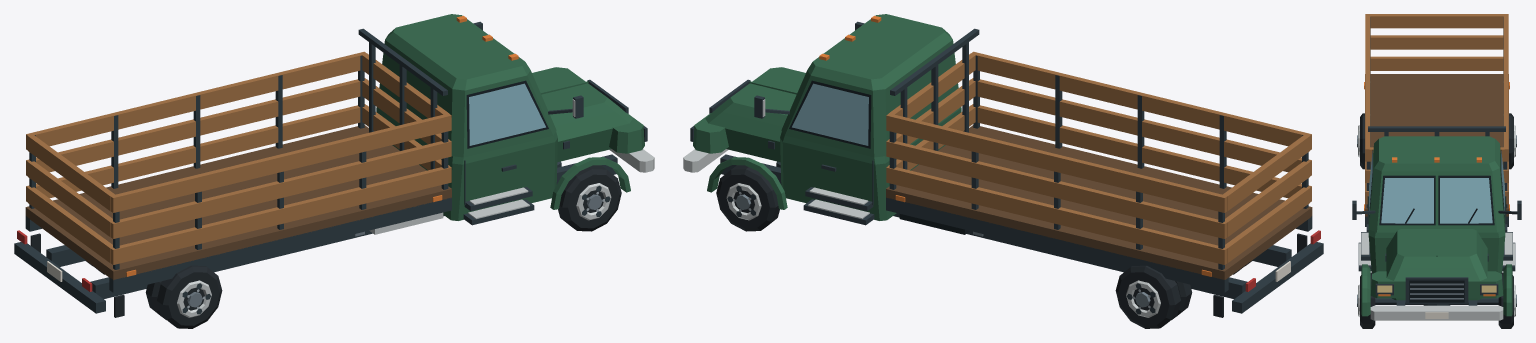
File: b15_flatbed_stake_truck.glb
3 renders of one model, left to right at view 1: azimuth 30°, elevation 25°; view 2: azimuth 150°, elevation 25°; view 3: azimuth 270°, elevation 25°, orthographic. The views are drawn at different scales.
Parts seen in each view (by area): view 1: b15_flatbed_stake_truck; view 2: b15_flatbed_stake_truck; view 3: b15_flatbed_stake_truck.
Boxes of the visible parts, x1,y1,x2,y2 form: b15_flatbed_stake_truck: [14, 14, 654, 328]; b15_flatbed_stake_truck: [683, 14, 1323, 328]; b15_flatbed_stake_truck: [1352, 14, 1521, 328].
Bounding box in the file's own units: 9.08 × 2.71 × 2.88.
